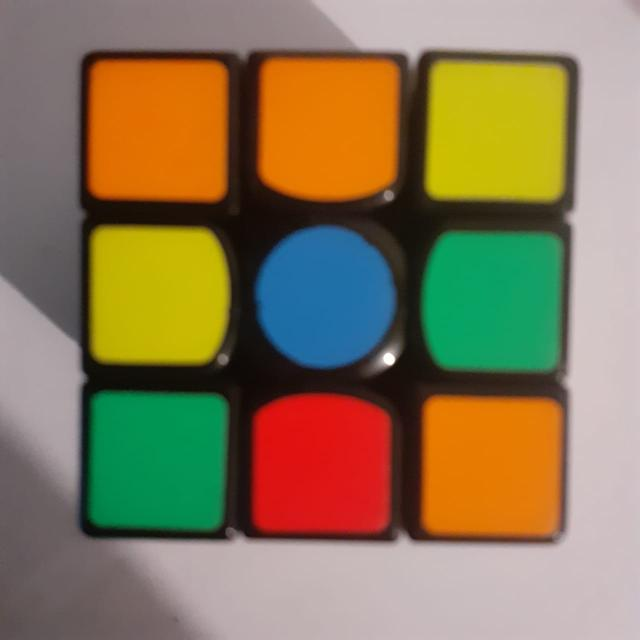Blue: (249, 218, 396, 370)
Green: (419, 222, 565, 384), (86, 386, 228, 540)
Orange: (84, 48, 226, 212), (418, 396, 568, 548), (252, 54, 398, 204)
Red: (251, 381, 389, 541)
Yellow: (425, 55, 577, 207), (86, 222, 230, 378)
